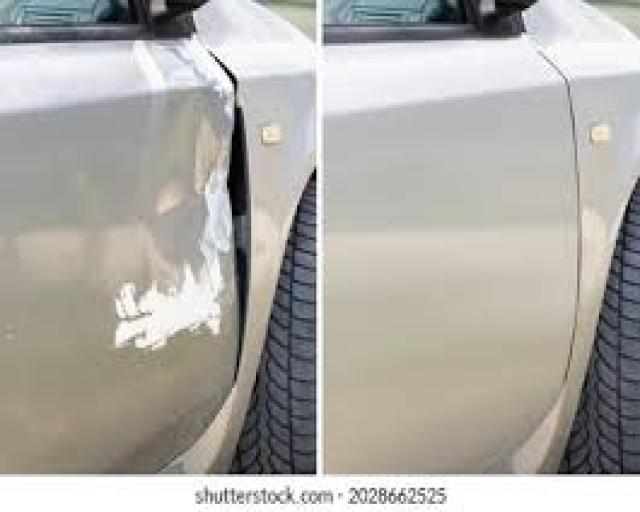scratch: (107, 31, 251, 368)
